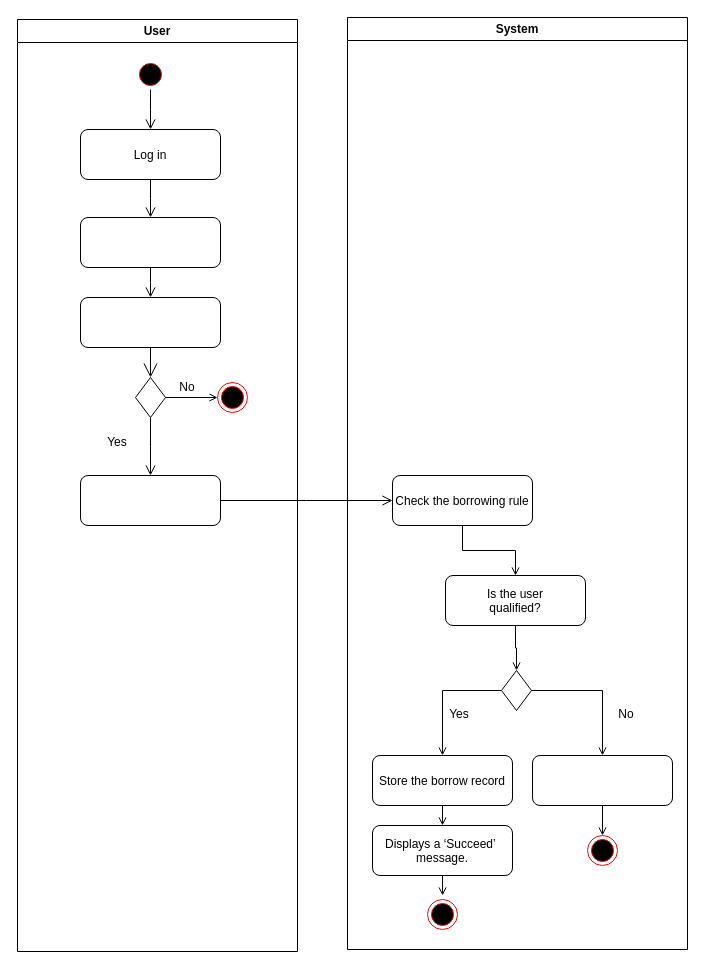
The diagram is 705 pixels wide and 969 high, and some of its shapes have lost their labels. Each missing label, with the centre of its shape:
Borrow Book: [150,500]
Displays a ‘Unqualified’ message.: [602,780]
Is Book Available？: [150,322]
Search Books: [150,242]
